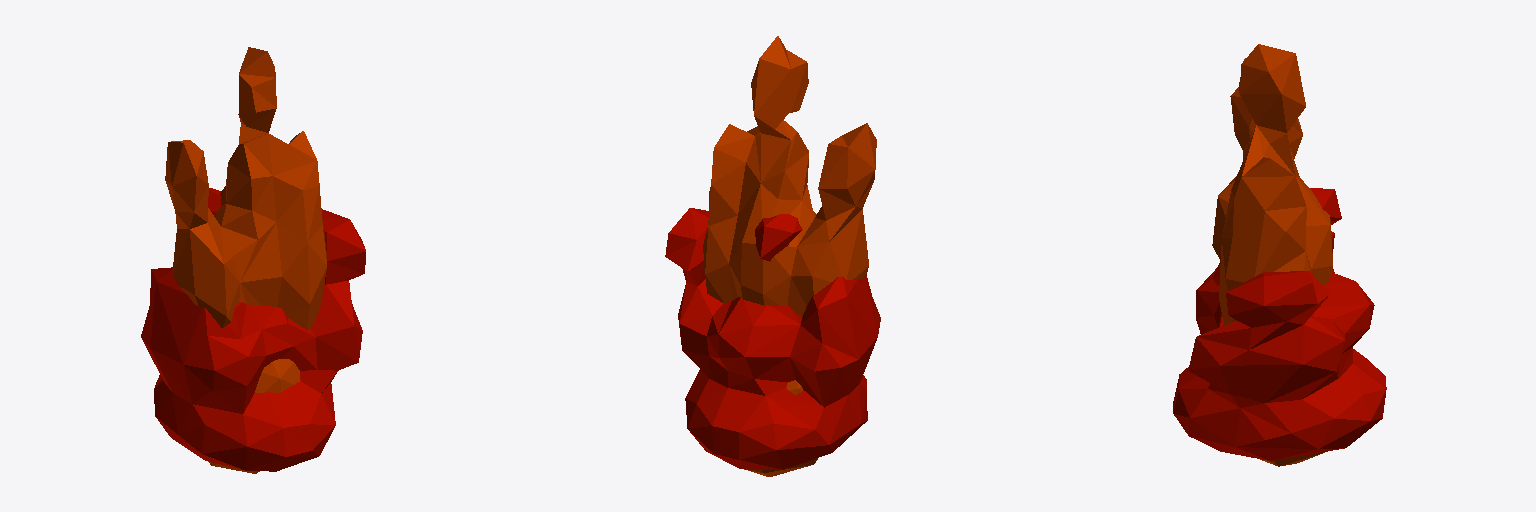
Rendered from effect_muzzle.obj.
3 renders of one model, left to right at view 1: azimuth 30°, elevation 25°; view 2: azimuth 150°, elevation 25°; view 3: azimuth 270°, elevation 25°, orthographic.
Visible parts, largest first — view 1: effect_muzzle_Mesh.002; view 2: effect_muzzle_Mesh.002; view 3: effect_muzzle_Mesh.002.
Boxes of the visible parts, x1=… form: effect_muzzle_Mesh.002: x1=141, y1=47, x2=365, y2=473; effect_muzzle_Mesh.002: x1=665, y1=36, x2=880, y2=476; effect_muzzle_Mesh.002: x1=1173, y1=44, x2=1386, y2=466.
Size of the model in its own units: 44.25 by 91.52 by 41.6.